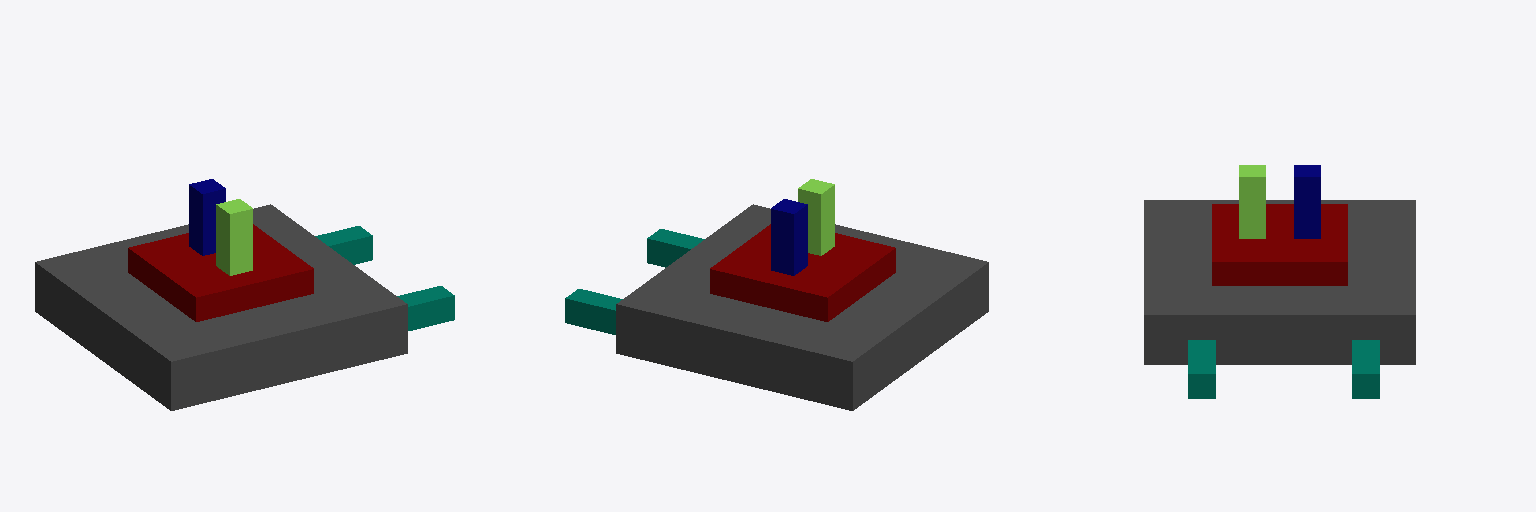
File: box_arm_left.obj
3 renders of one model, left to right at view 1: azimuth 30°, elevation 25°; view 2: azimuth 150°, elevation 25°; view 3: azimuth 270°, elevation 25°, orthographic.
Parts seen in each view (by area): view 1: Box001, Box002, Box004, Box003, Box006, Box005; view 2: Box001, Box002, Box003, Box004, Box005, Box006; view 3: Box001, Box002, Box003, Box004, Box005, Box006.
Boxes of the visible parts, x1,y1,x2,y2 form: Box001: [35, 204, 407, 410]; Box002: [128, 224, 313, 321]; Box004: [216, 199, 252, 275]; Box003: [189, 179, 225, 255]; Box006: [397, 286, 454, 330]; Box005: [315, 226, 372, 264]; Box001: [616, 204, 988, 410]; Box002: [710, 224, 895, 321]; Box003: [771, 199, 807, 275]; Box004: [798, 179, 834, 255]; Box005: [565, 289, 622, 334]; Box006: [647, 229, 704, 267]; Box001: [1144, 200, 1415, 364]; Box002: [1212, 204, 1347, 285]; Box003: [1294, 165, 1320, 238]; Box004: [1239, 165, 1265, 238]; Box005: [1352, 340, 1379, 398]; Box006: [1188, 340, 1215, 398].
Bounding box in the file's own units: 12.95 × 5.5 × 10.